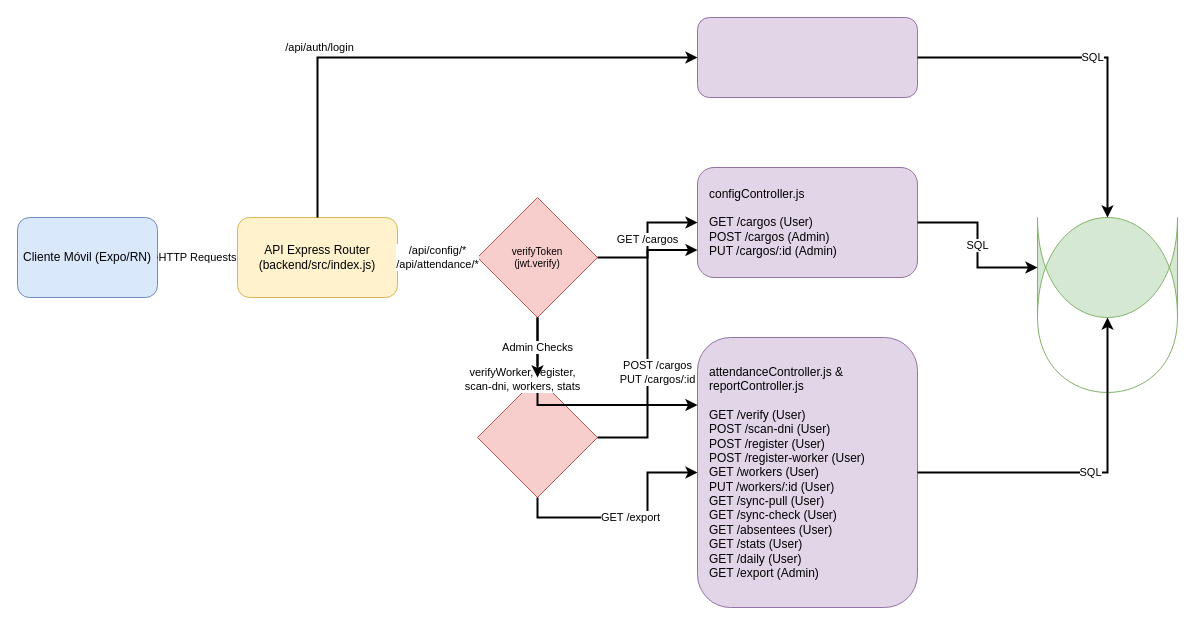
Some shapes in this 1195 by 625 pixel diagram are drawn without their labels. The centre of each missing label's shape, as x and y in pixels:
"authController.js POST /login (Público)" goes at [807,57].
"isAdmin (check role)" goes at [537,437].
"PostgreSQL DB (asistencia_db)" goes at [1107,267].
